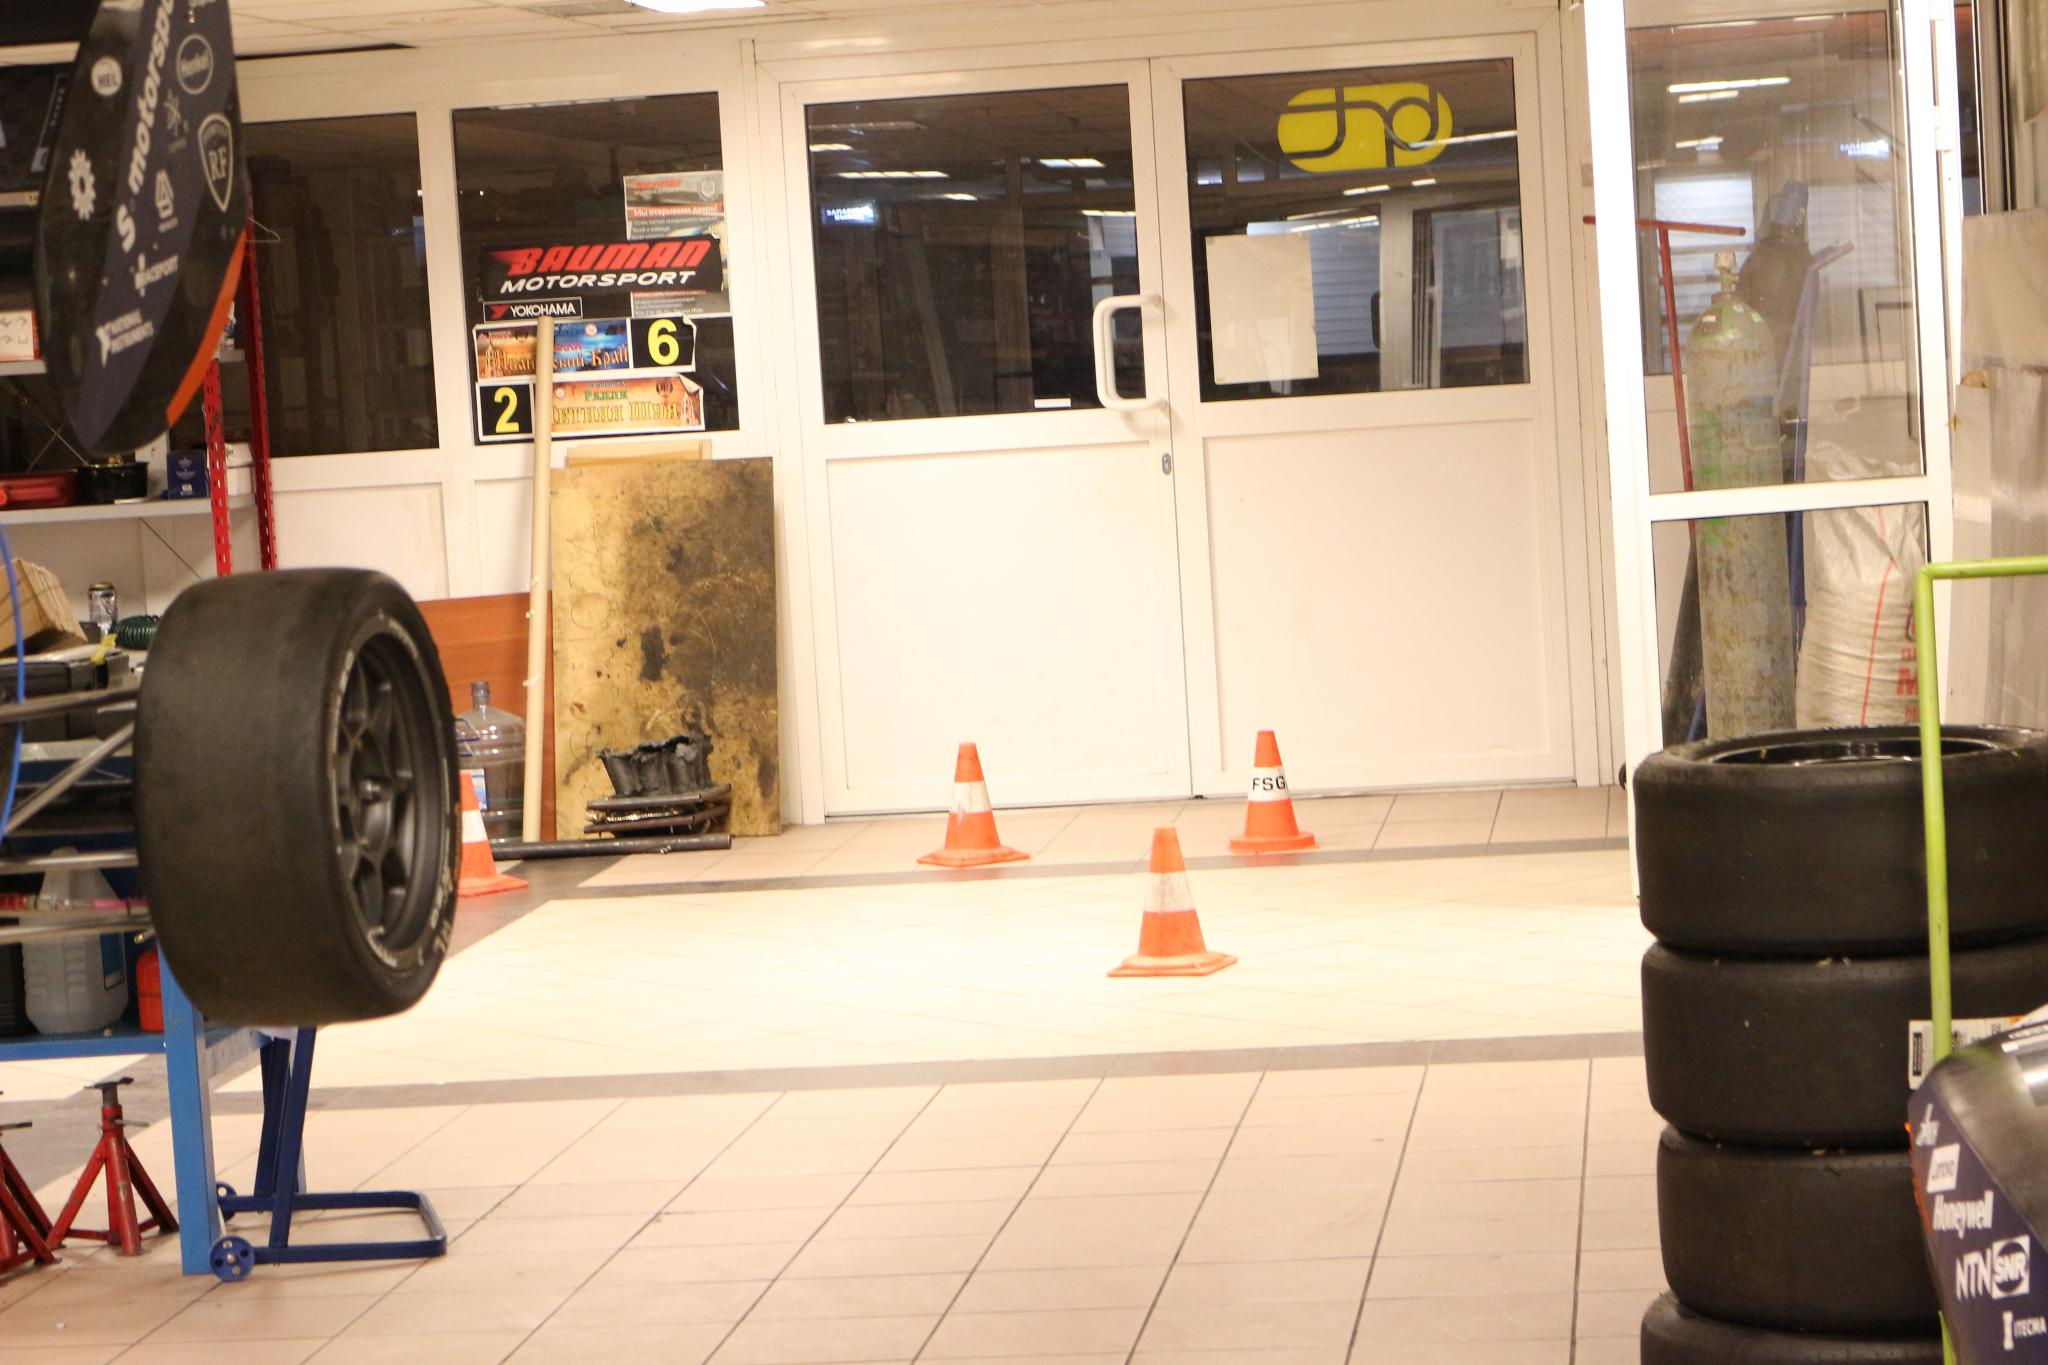Orange_Cone: (1115, 820, 1238, 981), (923, 743, 1029, 871), (1220, 727, 1319, 862)
